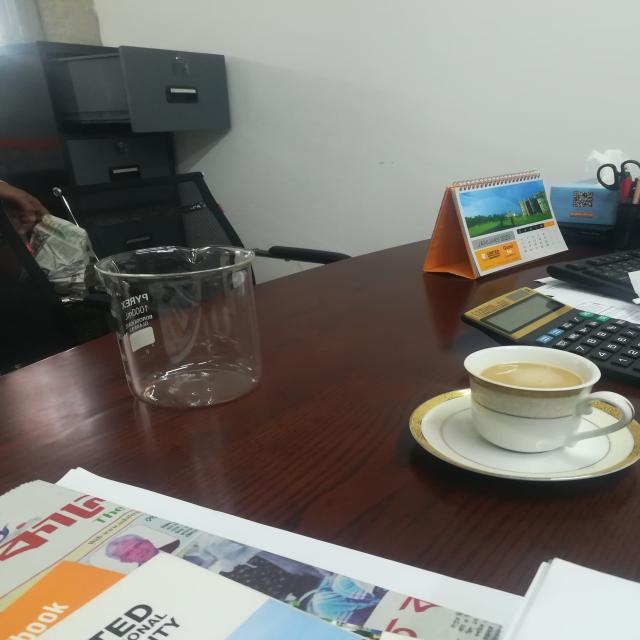Beaker: (65, 228, 318, 422)
